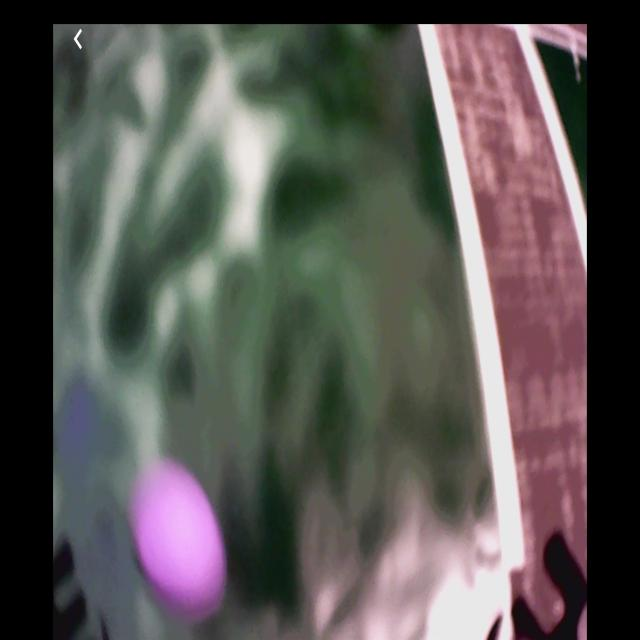ball: (136, 483, 215, 600)
